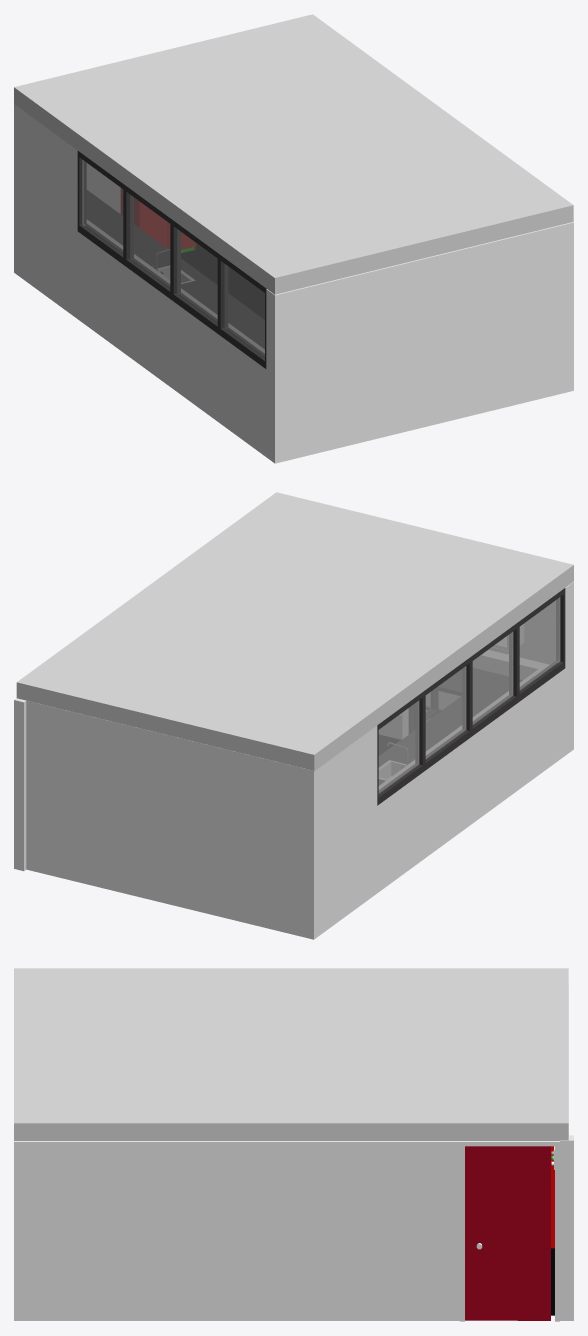
Rendered from LaborKlein.fbx.
3 renders of one model, top to bottom at view 1: azimuth 30°, elevation 25°; view 2: azimuth 150°, elevation 25°; view 3: azimuth 270°, elevation 25°, orthographic. The views are drawn at different scales.
Parts seen in each view (by area): view 1: Cube.003, Layer0_001, Group_004, Group_002, Group_003, Group_001, Group_021, Group_024, Group_006, Cabinet, Cube; view 2: Cube.003, Layer0_001, Group_002, Group_003, Group_004, Group_001, Group_009, Group_006, Cube.001, Group_024; view 3: Cube.003, Layer0_001, FlushDoor36#1_001, Door_3-0x6-8_Left#1_001.
Part boxes in pixels (<box>): Cube.003: <box>14,14,573,294</box>; Layer0_001: <box>14,104,573,463</box>; Group_004: <box>124,185,179,299</box>; Group_002: <box>172,220,219,334</box>; Group_003: <box>77,151,124,265</box>; Group_001: <box>219,254,266,368</box>; Group_021: <box>87,190,162,252</box>; Group_024: <box>134,246,217,300</box>; Group_006: <box>200,294,264,348</box>; Cabinet: <box>121,188,195,252</box>; Cube: <box>87,220,264,352</box>; Cube.003: <box>16,492,573,771</box>; Layer0_001: <box>14,582,573,939</box>; Group_002: <box>464,622,518,736</box>; Group_003: <box>377,691,424,805</box>; Group_004: <box>424,657,471,770</box>; Group_001: <box>518,588,565,702</box>; Group_009: <box>413,668,522,730</box>; Group_006: <box>401,695,494,747</box>; Cube.001: <box>473,650,544,679</box>; Group_024: <box>379,741,428,784</box>; Cube.003: <box>14,968,568,1140</box>; Layer0_001: <box>14,985,573,1320</box>; FlushDoor36#1_001: <box>465,1146,550,1320</box>; Door_3-0x6-8_Left#1_001: <box>460,1141,559,1321</box>.
Bounding box in the file's own units: 397 × 233 × 600.
